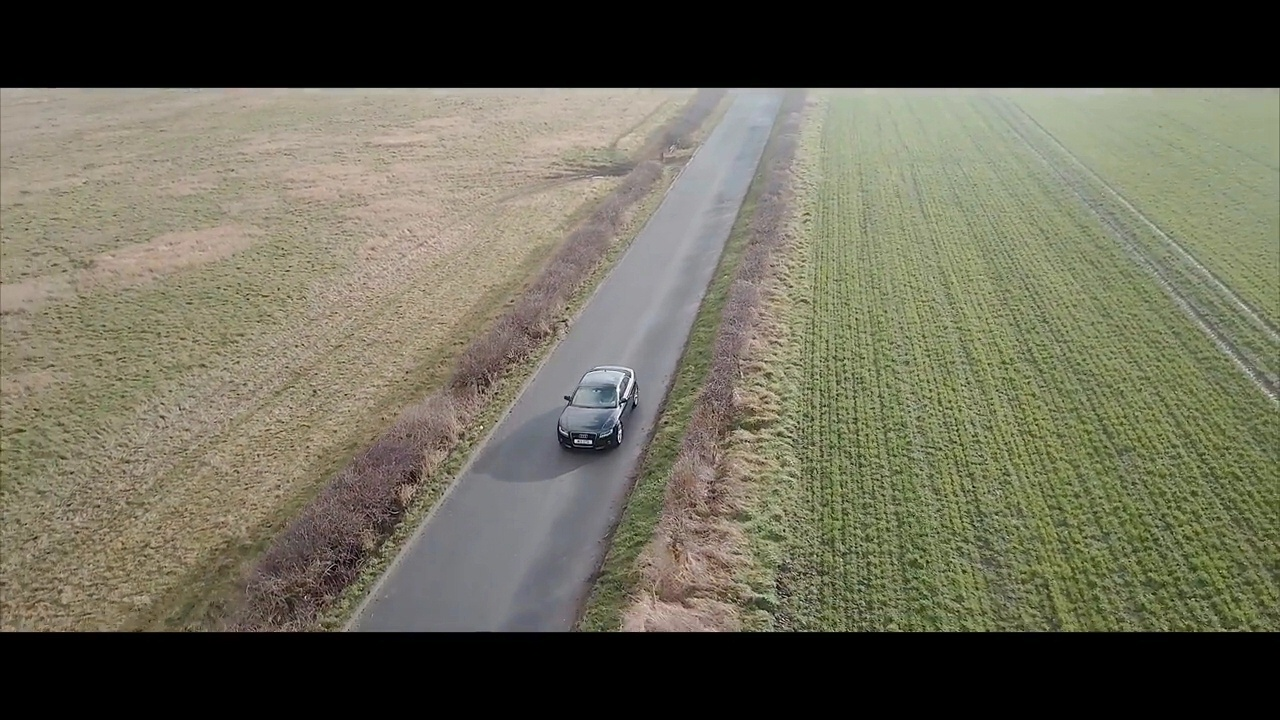araba: (555, 363, 640, 454)
